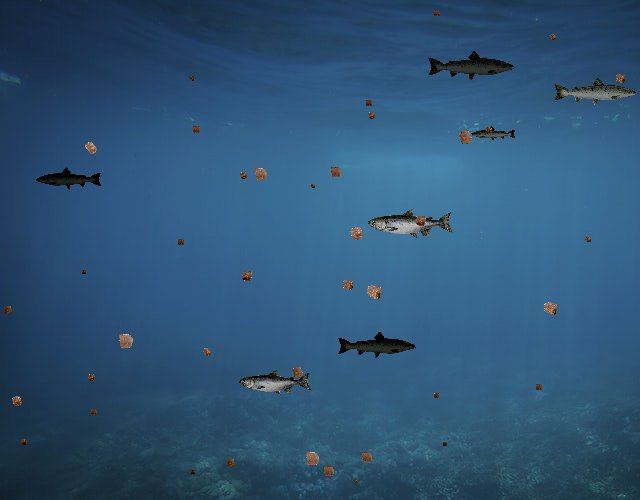Fish: (426, 49, 516, 82), (552, 76, 638, 107), (368, 208, 454, 239), (336, 331, 417, 360), (240, 370, 313, 396), (35, 167, 103, 191), (471, 126, 518, 143)
Pellet: (110, 326, 140, 356), (247, 161, 274, 188), (5, 390, 28, 412), (235, 265, 258, 287), (362, 96, 376, 110), (430, 389, 443, 402), (185, 72, 198, 85)
